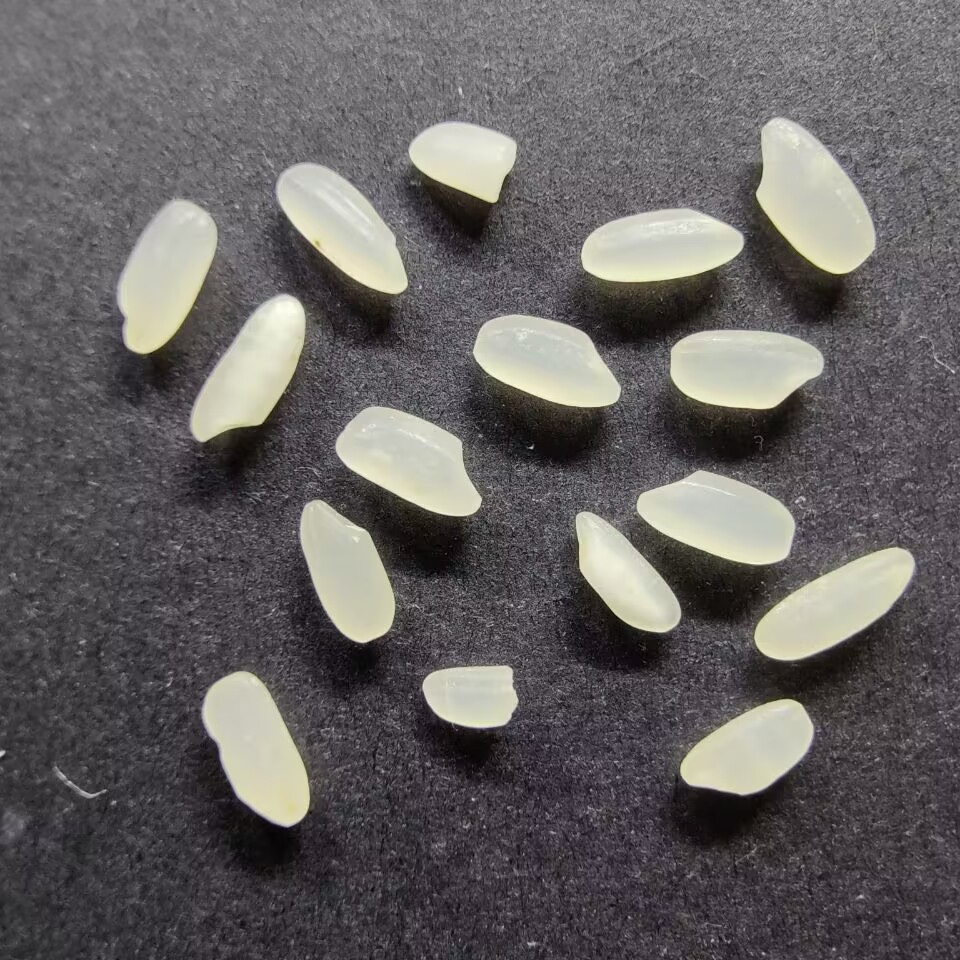broken: (408, 119, 521, 204), (417, 663, 522, 730)
rice: (752, 114, 876, 276), (750, 546, 919, 660), (187, 292, 306, 444), (199, 669, 312, 828), (277, 162, 409, 297), (335, 404, 483, 518), (114, 196, 218, 355), (636, 468, 797, 566), (299, 496, 399, 645), (472, 314, 621, 409), (572, 508, 683, 635), (677, 698, 817, 796), (668, 329, 826, 411), (579, 206, 745, 282)
